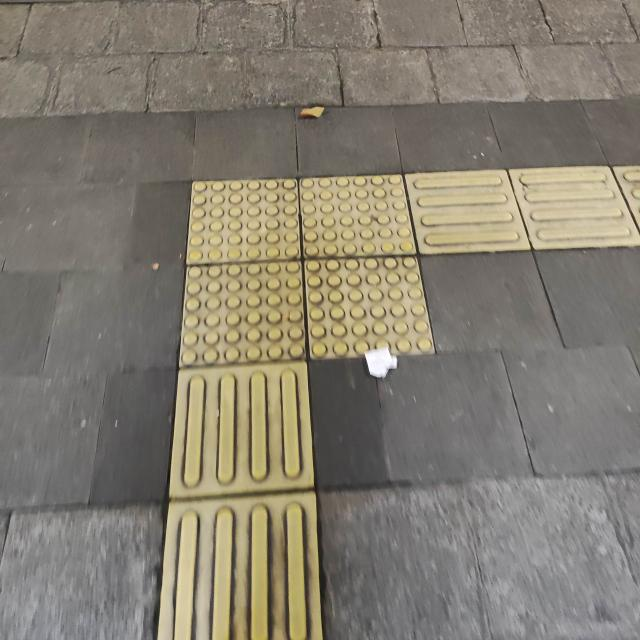kanan: (127, 131, 598, 435)
